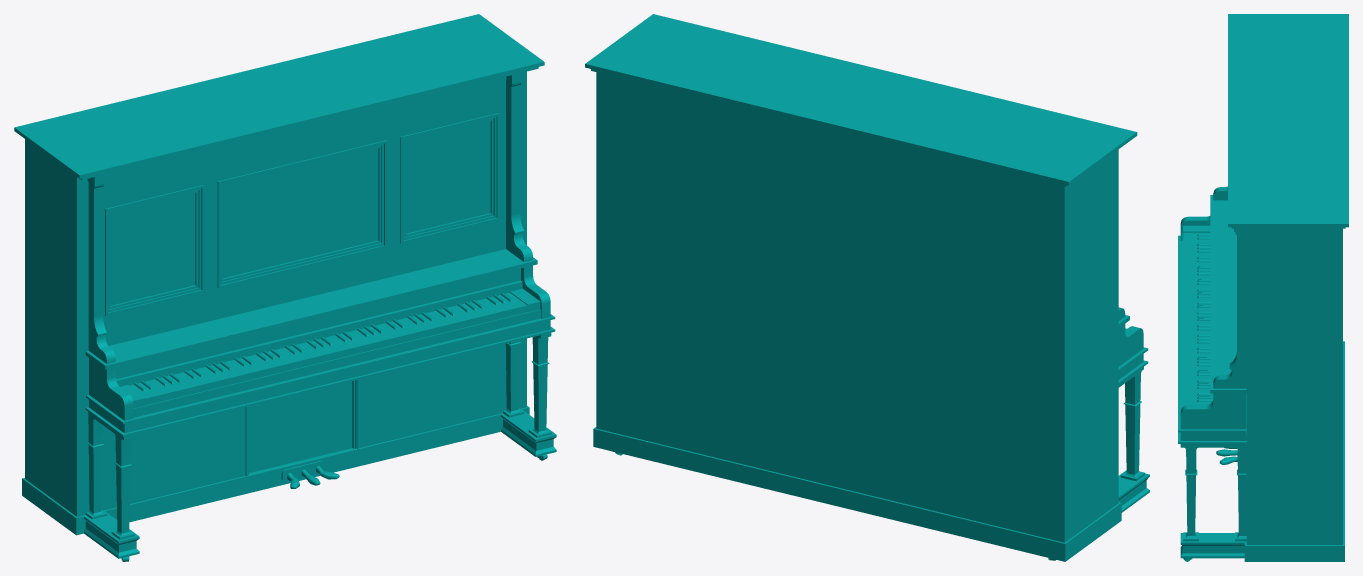
Rendered from piano.fbx.
3 views of the same model, side by side, from view 1: azimuth 30°, elevation 25°; view 2: azimuth 150°, elevation 25°; view 3: azimuth 270°, elevation 25° (orthographic). The views are drawn at different scales.
Visible parts, largest first — view 1: piano; view 2: piano; view 3: piano.
Part boxes in pixels (left/top/right/bottom): piano: left=14, top=14, right=556, bottom=561; piano: left=585, top=14, right=1149, bottom=561; piano: left=1178, top=14, right=1348, bottom=561.
Bounding box in the file's own units: 155 × 120 × 53.37.
